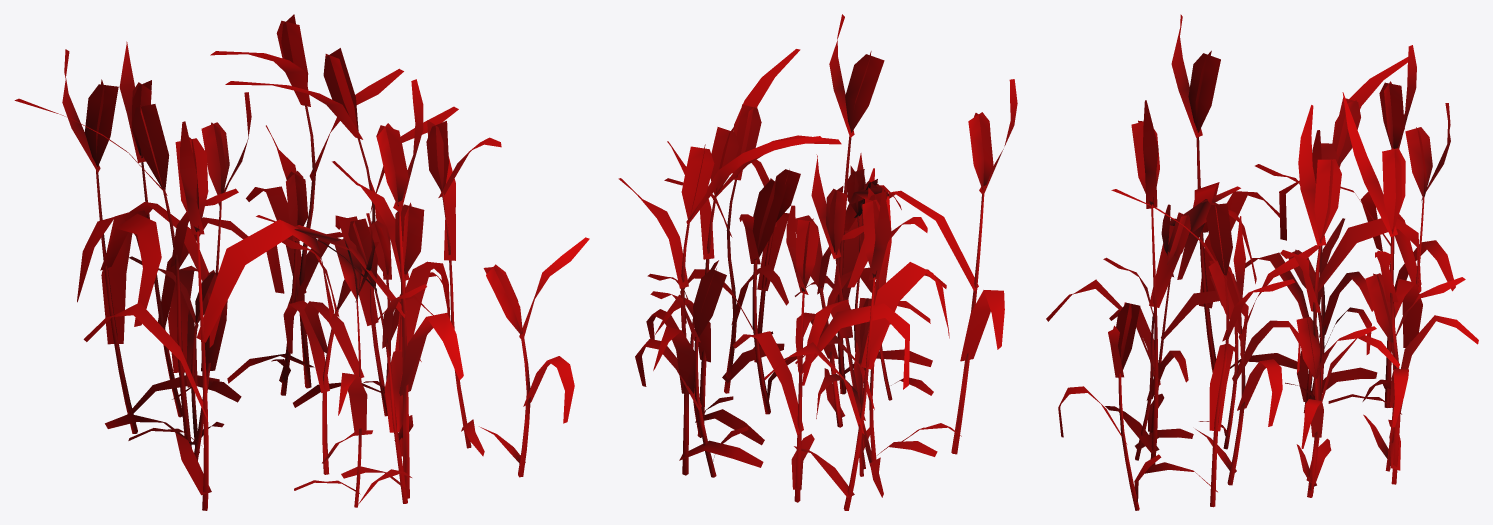
File: SM_Barley_2.fbx
3 renders of one model, left to right at view 1: azimuth 30°, elevation 25°; view 2: azimuth 150°, elevation 25°; view 3: azimuth 270°, elevation 25°, orthographic. The views are drawn at different scales.
Visible parts, largest first — view 1: SM_Barley_2; view 2: SM_Barley_2; view 3: SM_Barley_2.
Boxes of the visible parts, box(x1,y1,x2,y2) form: SM_Barley_2: box(14, 14, 589, 510); SM_Barley_2: box(618, 14, 1017, 510); SM_Barley_2: box(1046, 14, 1478, 510).
Size of the model in its own units: 1.56 by 1.52 by 1.62.
